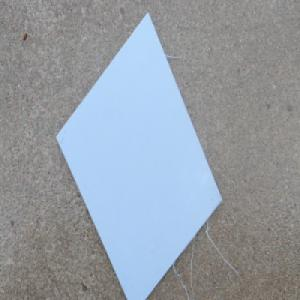PaintChip: (54, 8, 223, 300)
